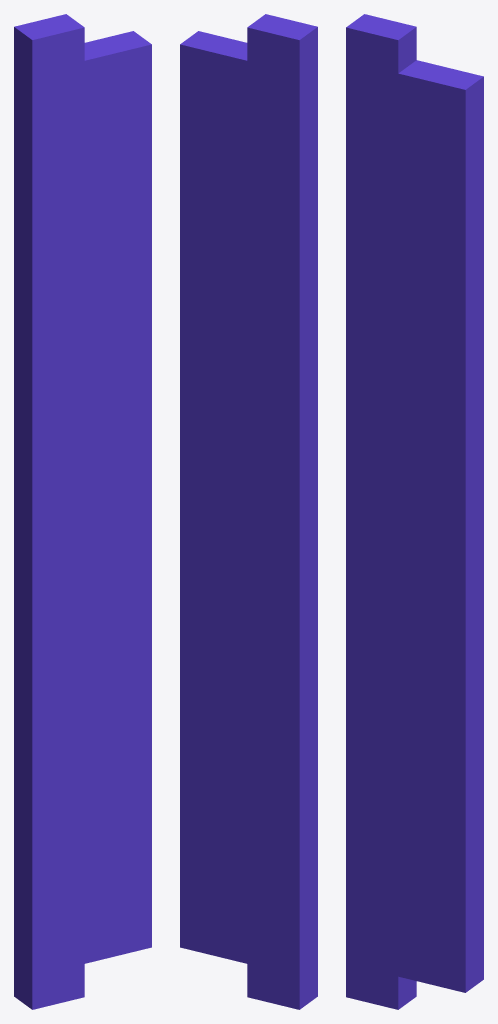
Rendered from pillar.dae.
3 renders of one model, left to right at view 1: azimuth 30°, elevation 25°; view 2: azimuth 150°, elevation 25°; view 3: azimuth 330°, elevation 25°, orthographic.
Visible parts, largest first — view 1: pillar; view 2: pillar; view 3: pillar.
Part boxes in pixels (x1,y1,x2,y2): pillar: (14, 14, 151, 1009); pillar: (180, 14, 317, 1009); pillar: (346, 14, 483, 1009).
Size of the model in its own units: 0.0225 by 0.006 by 0.1745.
